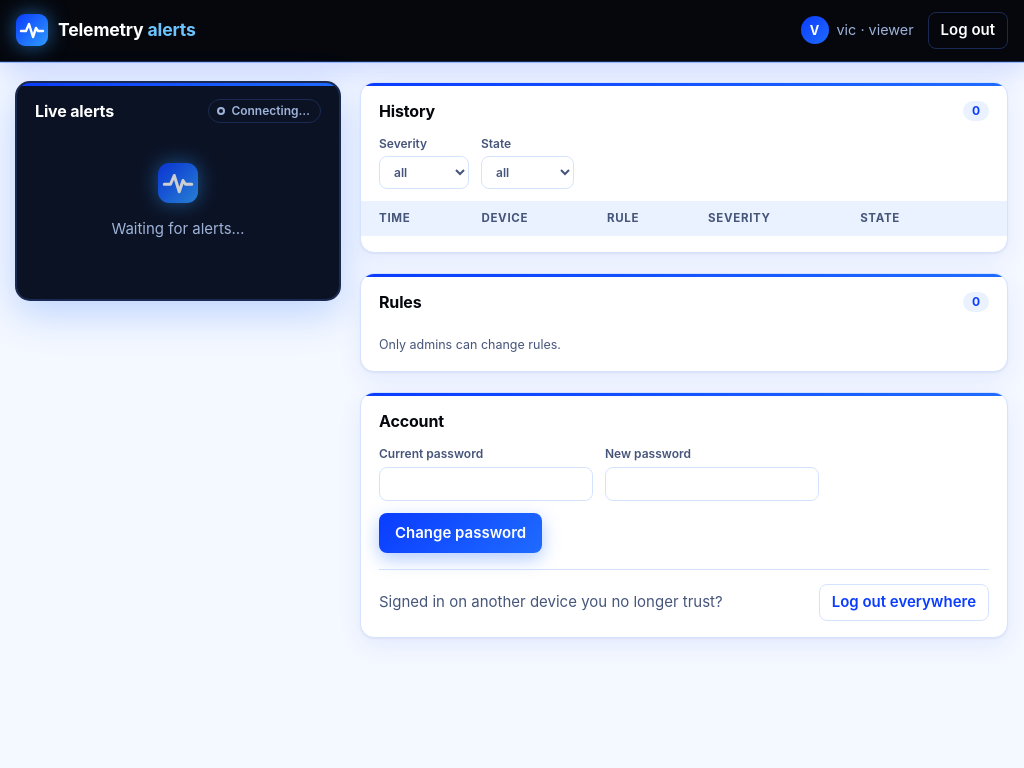
login flow › logs out
Click the button "Log out": point(968, 30) [928,12,1008,48]
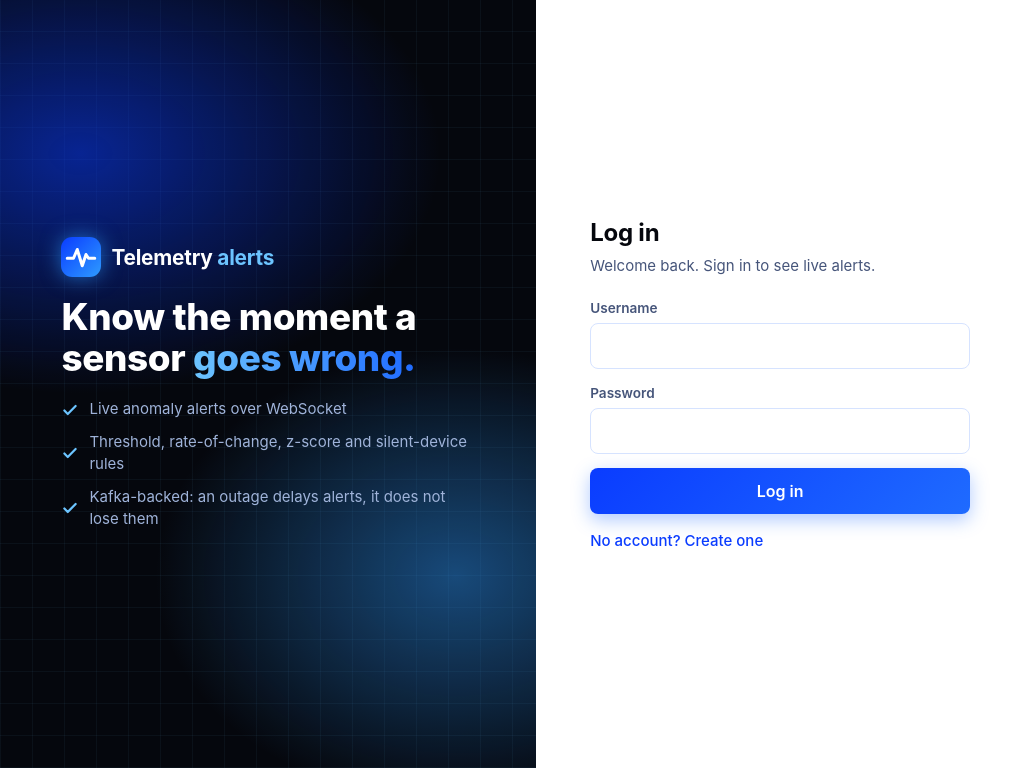
Expected: the heading "Log in" is shown, [590,218,659,247]
